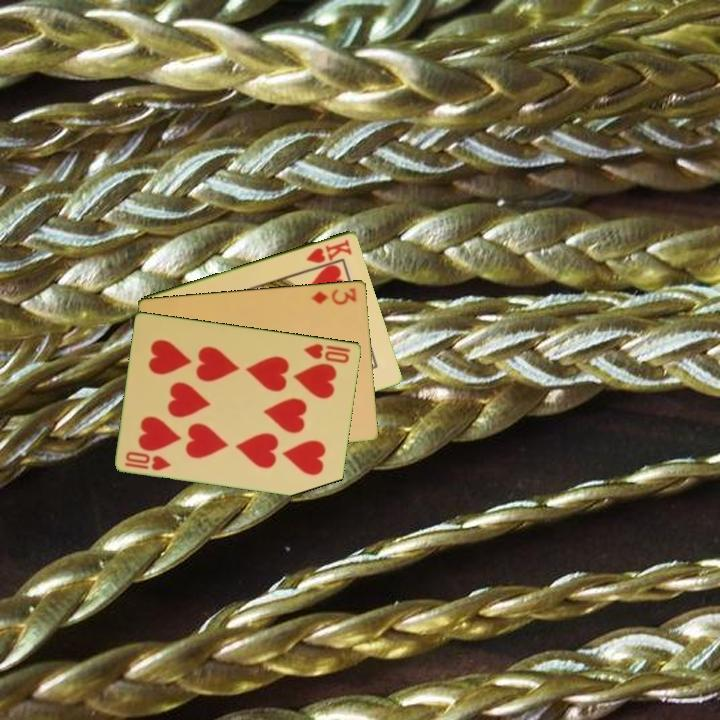10h: (301, 340, 352, 366), (121, 448, 174, 473)
3d: (308, 284, 360, 307)
Kh: (303, 235, 355, 266)
